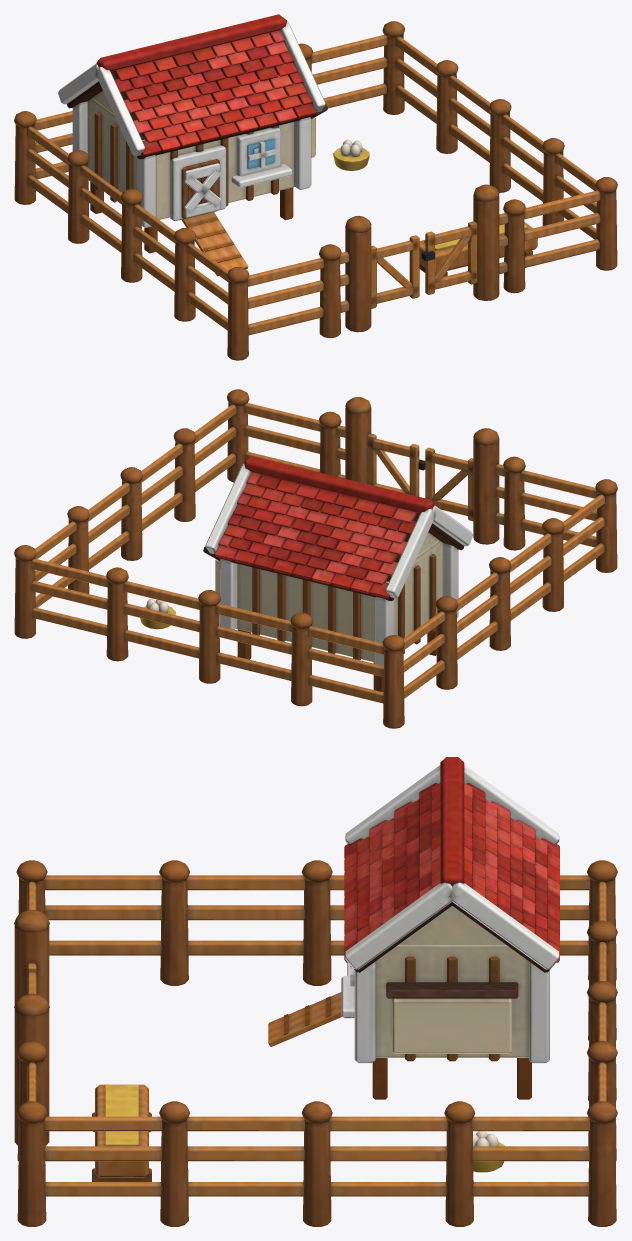
Rendered from leghorn_coop.glb.
The picture shows the model from 3 angles, top to bottom: view 1: azimuth 30°, elevation 25°; view 2: azimuth 150°, elevation 25°; view 3: azimuth 270°, elevation 25°; orthographic projection. The views are drawn at different scales.
Visible parts, largest first — view 1: leghorn_coop, gate1, gate0; view 2: leghorn_coop, gate1, gate0; view 3: leghorn_coop.
Part boxes in pixels (x1,y1,x2,y2): leghorn_coop: (14, 14, 617, 360); gate1: (421, 221, 477, 294); gate0: (371, 235, 419, 308); leghorn_coop: (14, 389, 617, 728); gate1: (367, 433, 425, 496); gate0: (425, 447, 473, 521); leghorn_coop: (14, 757, 617, 1226).
Bounding box in the file's own units: 2 × 0.8813 × 2.01.
Materials: 1 (1 with a texture image).
